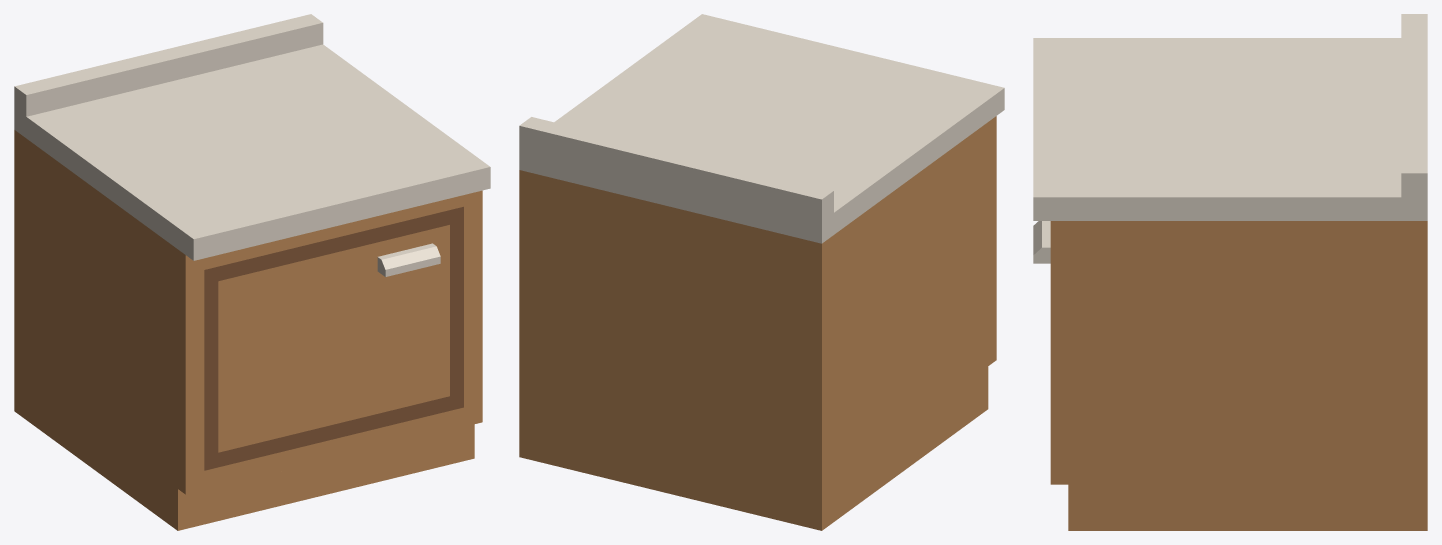
File: kitKitchenCabinet.glb
3 renders of one model, left to right at view 1: azimuth 30°, elevation 25°; view 2: azimuth 150°, elevation 25°; view 3: azimuth 270°, elevation 25°, orthographic. The views are drawn at different scales.
Parts seen in each view (by area): view 1: kitKitchenCabinet_wood, kitKitchenCabinet_metal, kitKitchenCabinet_woodDark; view 2: kitKitchenCabinet_wood, kitKitchenCabinet_metal; view 3: kitKitchenCabinet_wood, kitKitchenCabinet_metal.
Part boxes in pixels (x1,y1,x2,y2): kitKitchenCabinet_wood: [14, 130, 482, 530]; kitKitchenCabinet_metal: [14, 14, 490, 276]; kitKitchenCabinet_woodDark: [204, 206, 463, 470]; kitKitchenCabinet_wood: [519, 116, 996, 530]; kitKitchenCabinet_metal: [519, 14, 1004, 243]; kitKitchenCabinet_wood: [1050, 221, 1427, 530]; kitKitchenCabinet_metal: [1033, 14, 1427, 263].
Bounding box in the file's own units: 0.86 × 0.9 × 0.9.
